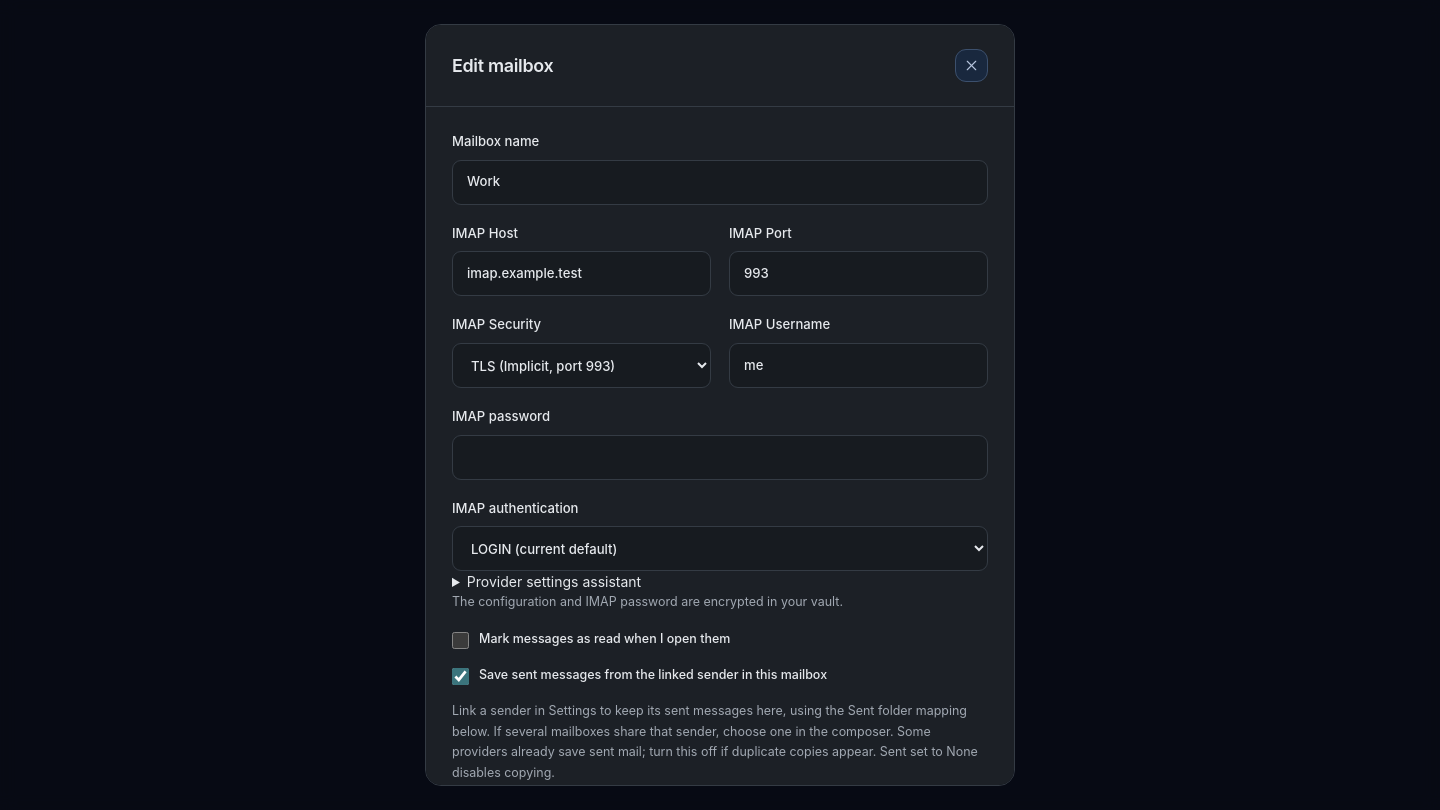
IMAP account creation › preserves edited values and keeps the dialog open after a conflict
Replace the text in the field labelled "Mailbox name" with "Updated": (720, 182) [452,160,988,205]
(page scrolled)
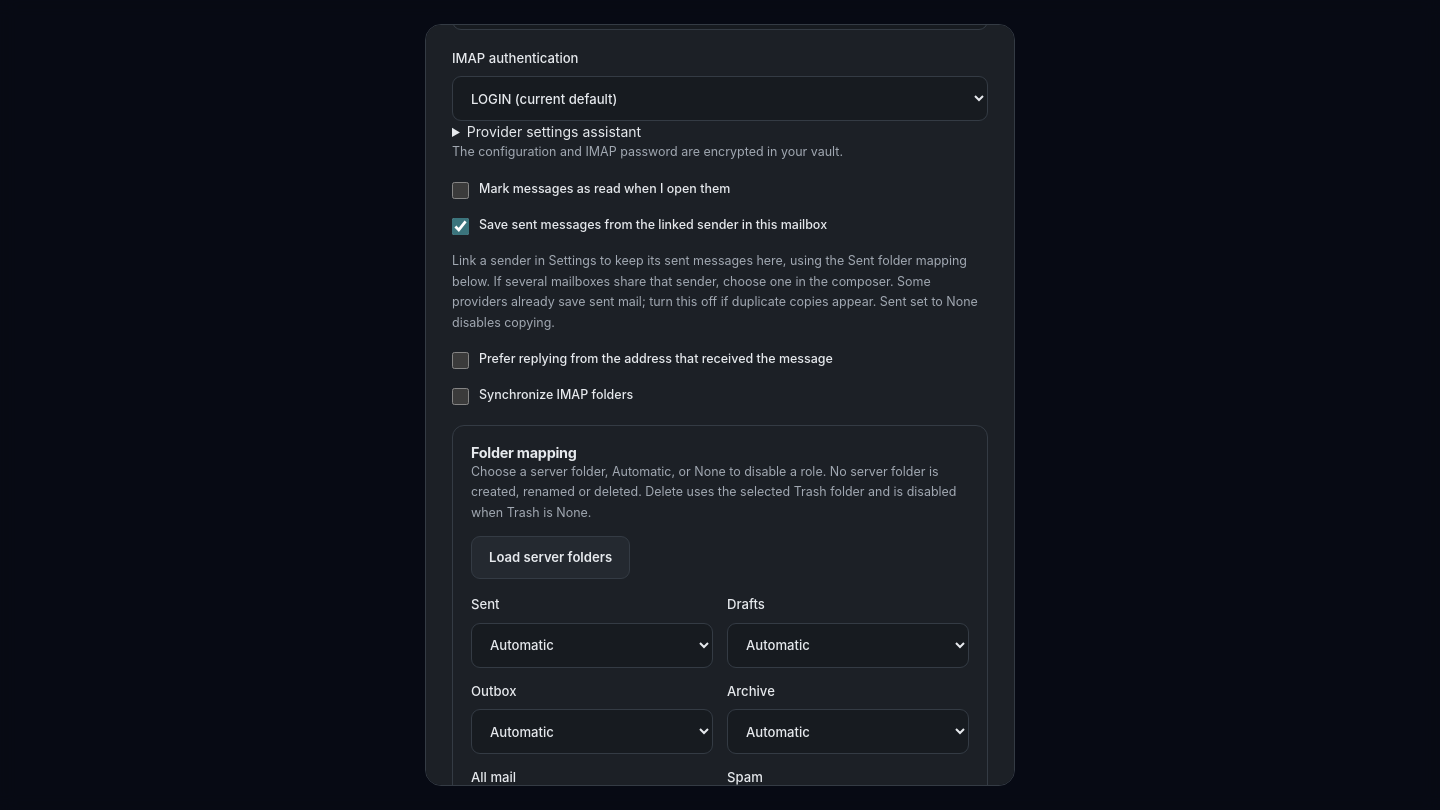
Submit the form
(page scrolled)
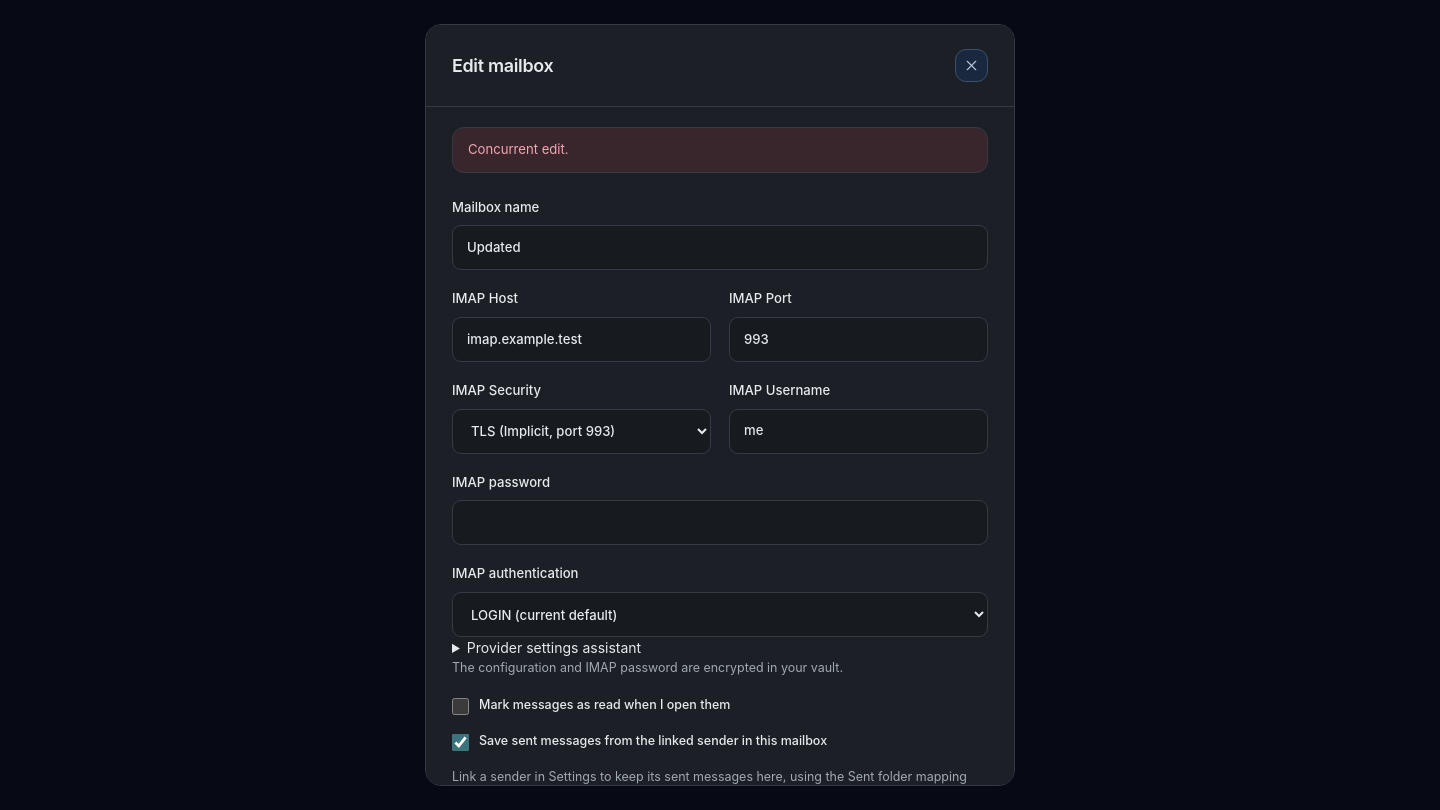
Now the message "Concurrent edit." is shown, box [452,127,988,173]
